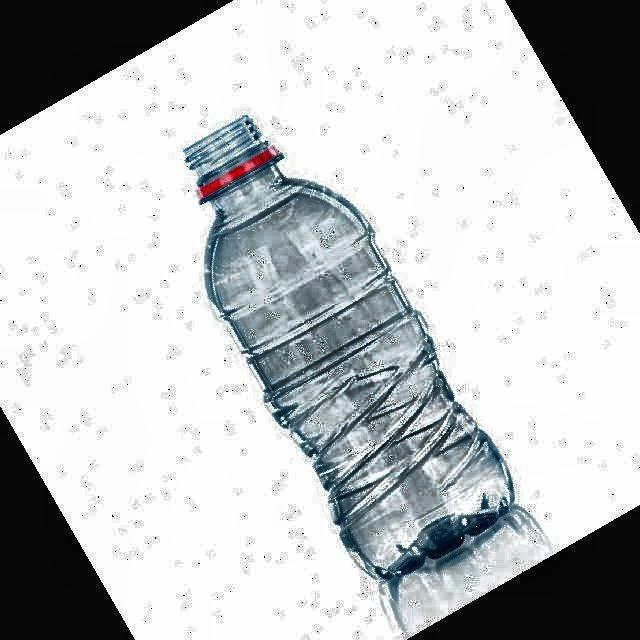plastic: (184, 115, 514, 579)
